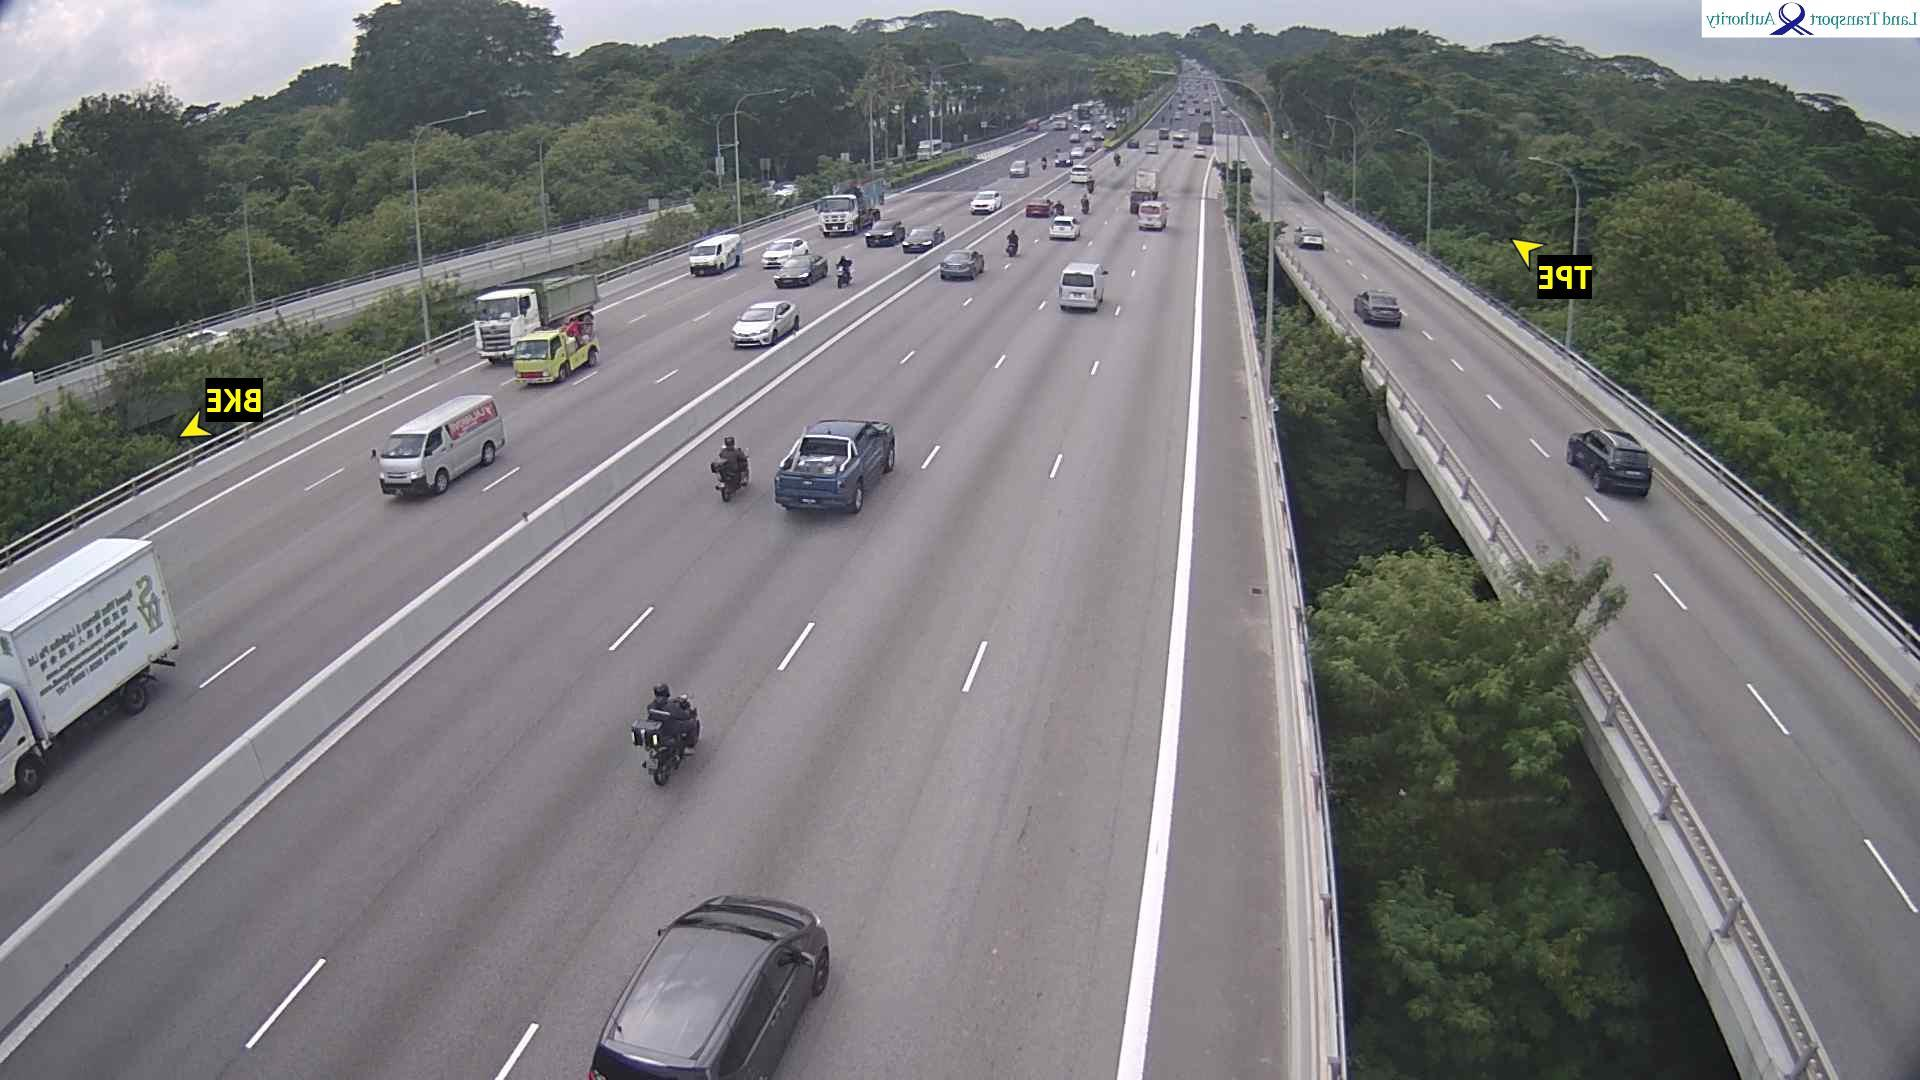cars: (588, 893, 832, 1077), (371, 393, 506, 497), (774, 417, 897, 514), (1567, 427, 1654, 497), (513, 324, 600, 386), (731, 299, 800, 347), (1059, 261, 1109, 311), (688, 231, 744, 276), (774, 251, 828, 287), (1356, 289, 1406, 326), (761, 235, 810, 268), (940, 248, 985, 280), (902, 224, 945, 253), (865, 218, 906, 247), (1138, 200, 1170, 229), (971, 189, 1004, 215), (1217, 160, 1254, 182), (1050, 214, 1081, 239), (1296, 225, 1327, 249), (1026, 196, 1054, 218), (1069, 162, 1095, 185), (1010, 158, 1030, 175), (1171, 129, 1189, 146), (1069, 142, 1085, 160), (1195, 144, 1211, 158), (1058, 152, 1069, 169), (1146, 140, 1160, 153), (1127, 136, 1142, 148)
motorcycle: (632, 699, 702, 787), (712, 454, 750, 502), (836, 257, 855, 287), (1007, 225, 1021, 256), (1079, 193, 1095, 215), (1112, 148, 1125, 169), (1036, 154, 1051, 173)
trucks: (1, 535, 181, 798), (473, 272, 601, 365), (818, 193, 861, 236), (1130, 169, 1159, 214)
